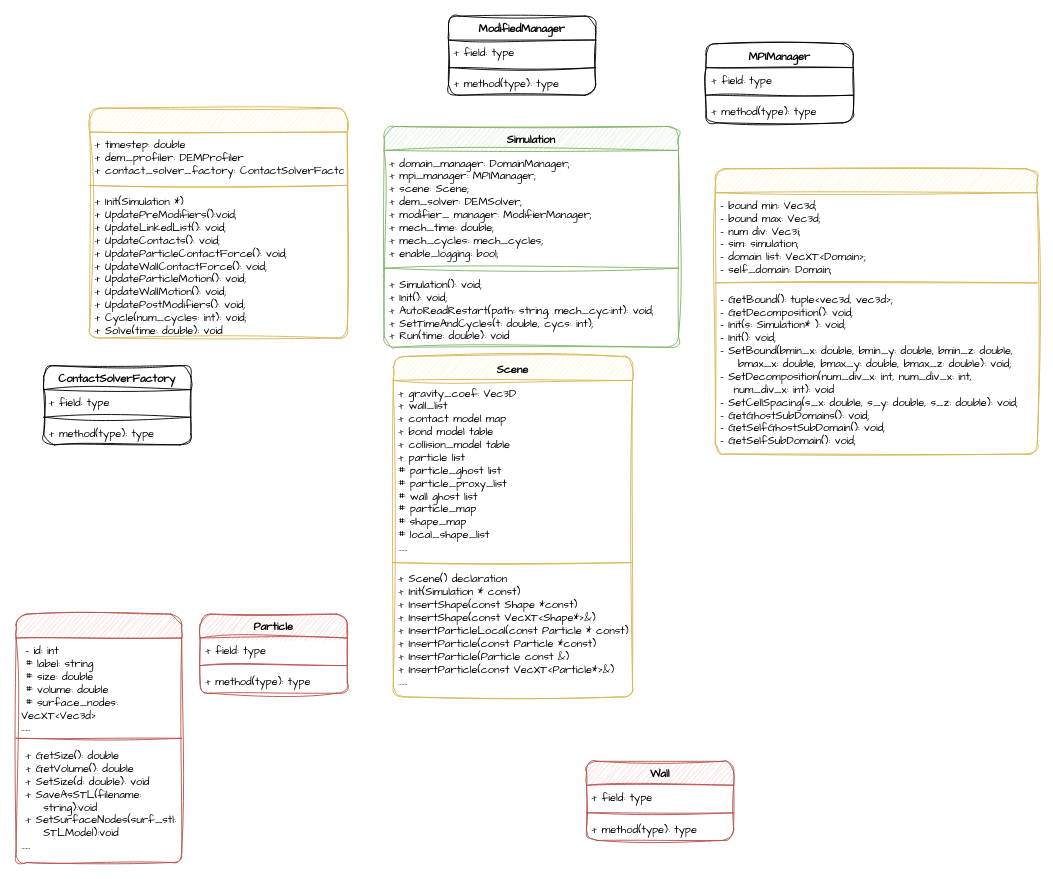
Image size: 1053x879. Some labels were removed from this diagram. The shapes that lost their labels are listed below. From the top down, each one's box as (x1, y1, x2, y2) in pixels, then its label:
(89, 107, 347, 338): DEMSolver
(714, 168, 1037, 454): DomainManager
(15, 613, 182, 862): Shape
